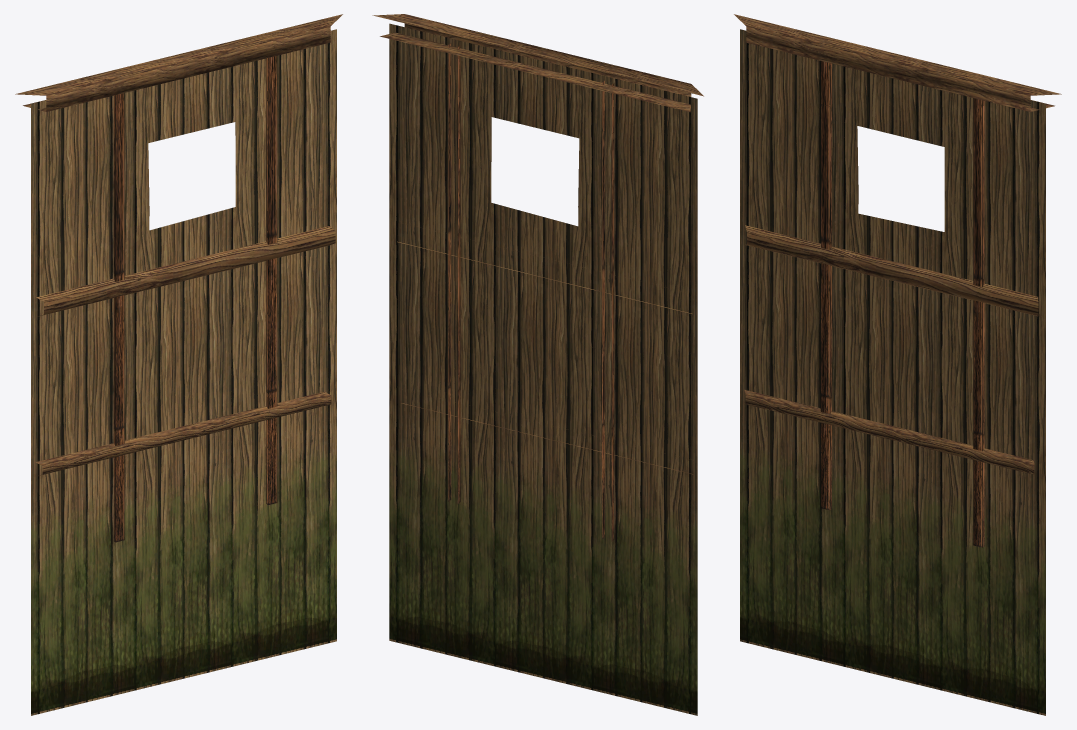
File: LAKETOWN_WAREHOUSE2_PS_WH2_EXIT_WALL94948__GX.fbx
3 views of the same model, side by side, from view 1: azimuth 30°, elevation 25°; view 2: azimuth 150°, elevation 25°; view 3: azimuth 330°, elevation 25° (orthographic).
Parts seen in each view (by area): view 1: LAKETOWN_WAREHOUSE2_PS_WH2_EXIT_WALL94948__GX; view 2: LAKETOWN_WAREHOUSE2_PS_WH2_EXIT_WALL94948__GX; view 3: LAKETOWN_WAREHOUSE2_PS_WH2_EXIT_WALL94948__GX.
Boxes of the visible parts, bbox=[...] form: LAKETOWN_WAREHOUSE2_PS_WH2_EXIT_WALL94948__GX: bbox=[15, 14, 342, 715]; LAKETOWN_WAREHOUSE2_PS_WH2_EXIT_WALL94948__GX: bbox=[372, 14, 703, 715]; LAKETOWN_WAREHOUSE2_PS_WH2_EXIT_WALL94948__GX: bbox=[734, 14, 1061, 715].
Bounding box in the file's own units: 84362 × 151983 × 5538.
Materials: 5 (5 with a texture image).
